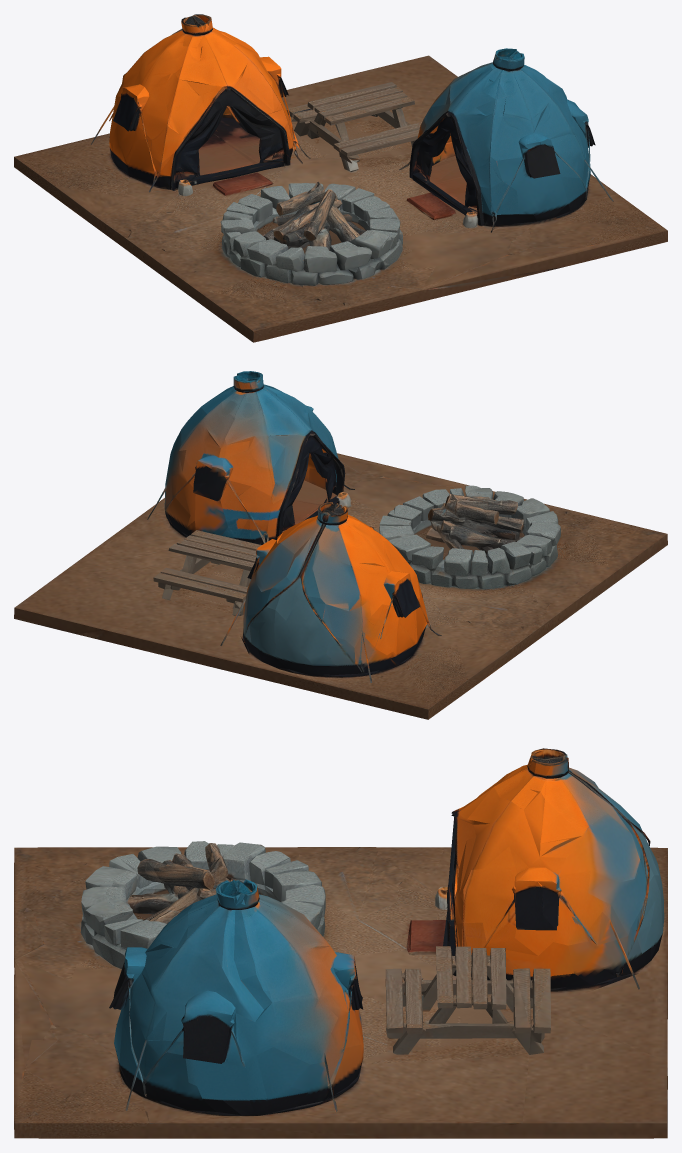
File: camp.glb
3 views of the same model, one above another, from view 1: azimuth 30°, elevation 25°; view 2: azimuth 150°, elevation 25°; view 3: azimuth 270°, elevation 25° (orthographic). The views are drawn at different scales.
Size of the model in its own units: 1.9 by 0.6447 by 1.9.
1 material, 1 textured.
